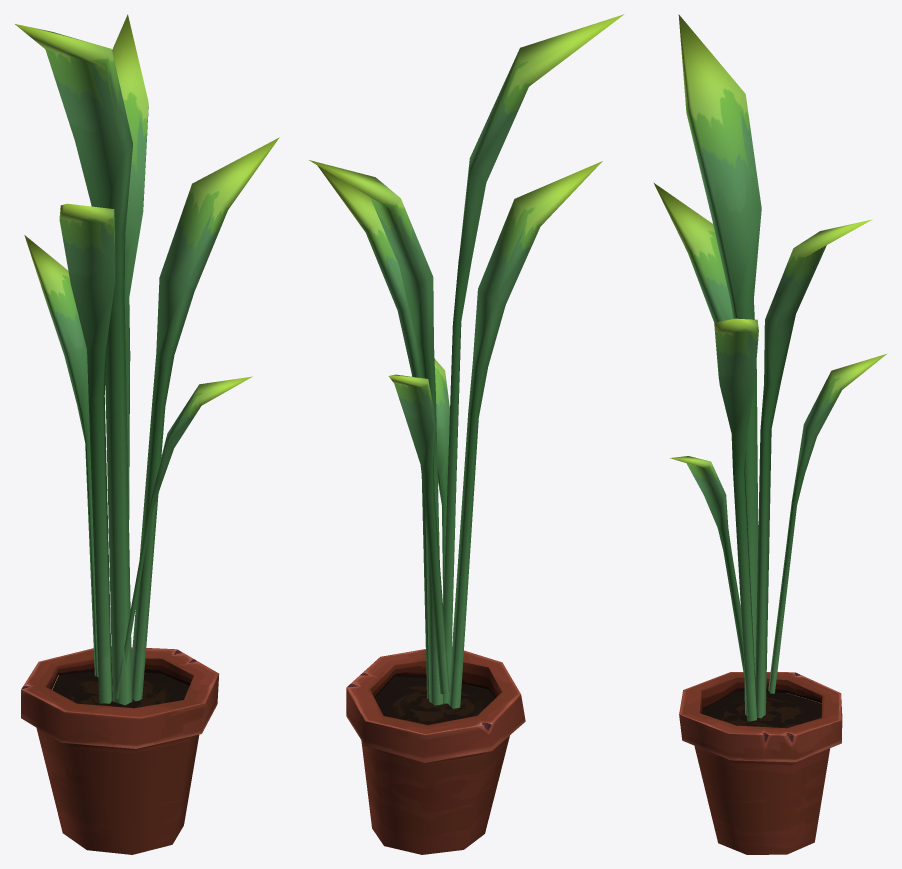
Rendered from SM_PROP_plant_interior_05.fbx.
3 renders of one model, left to right at view 1: azimuth 30°, elevation 25°; view 2: azimuth 150°, elevation 25°; view 3: azimuth 270°, elevation 25°, orthographic. The views are drawn at different scales.
Parts seen in each view (by area): view 1: SM_PROP_plant_interior_05; view 2: SM_PROP_plant_interior_05; view 3: SM_PROP_plant_interior_05.
Boxes of the visible parts, <box> form: SM_PROP_plant_interior_05: <box>15,14,279,854</box>; SM_PROP_plant_interior_05: <box>309,14,624,854</box>; SM_PROP_plant_interior_05: <box>654,14,886,854</box>.
Bounding box in the file's own units: 52.04 × 147 × 41.35.
